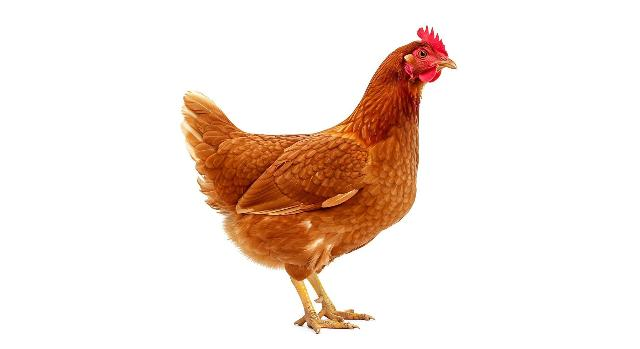Chicken: (180, 24, 459, 336)
